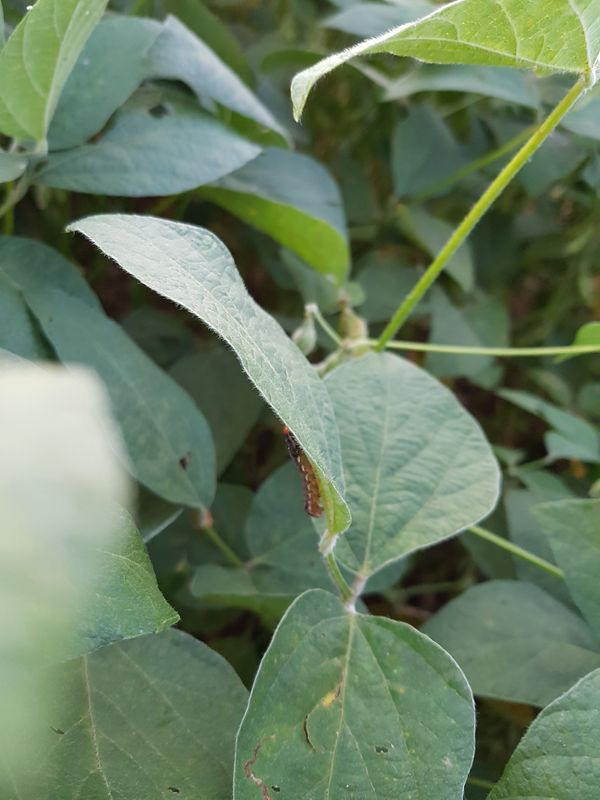Spodoptera_albula: (258, 412, 339, 526)
